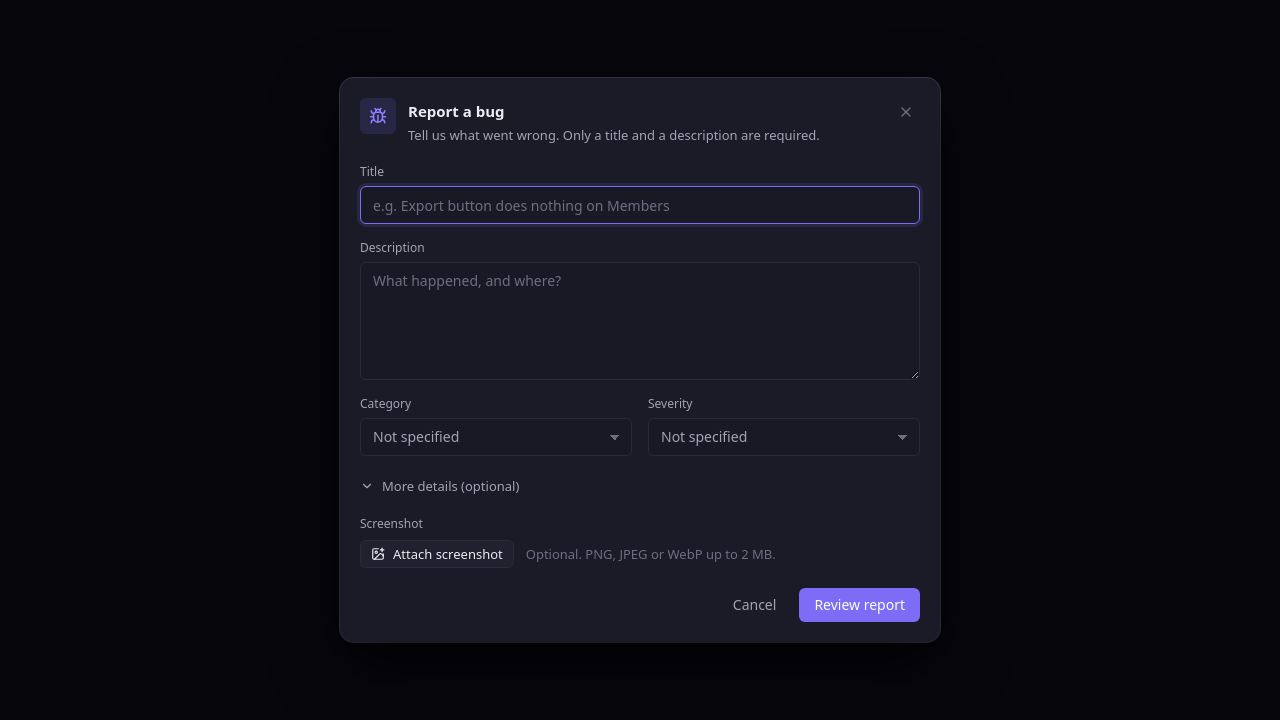
Test: Report a bug › keeps optional details out of the way until asked for
Expected: the field labelled "Steps to reproduce" is not shown
Click the button "More details (optional)": click(440, 486) [360, 472, 519, 500]
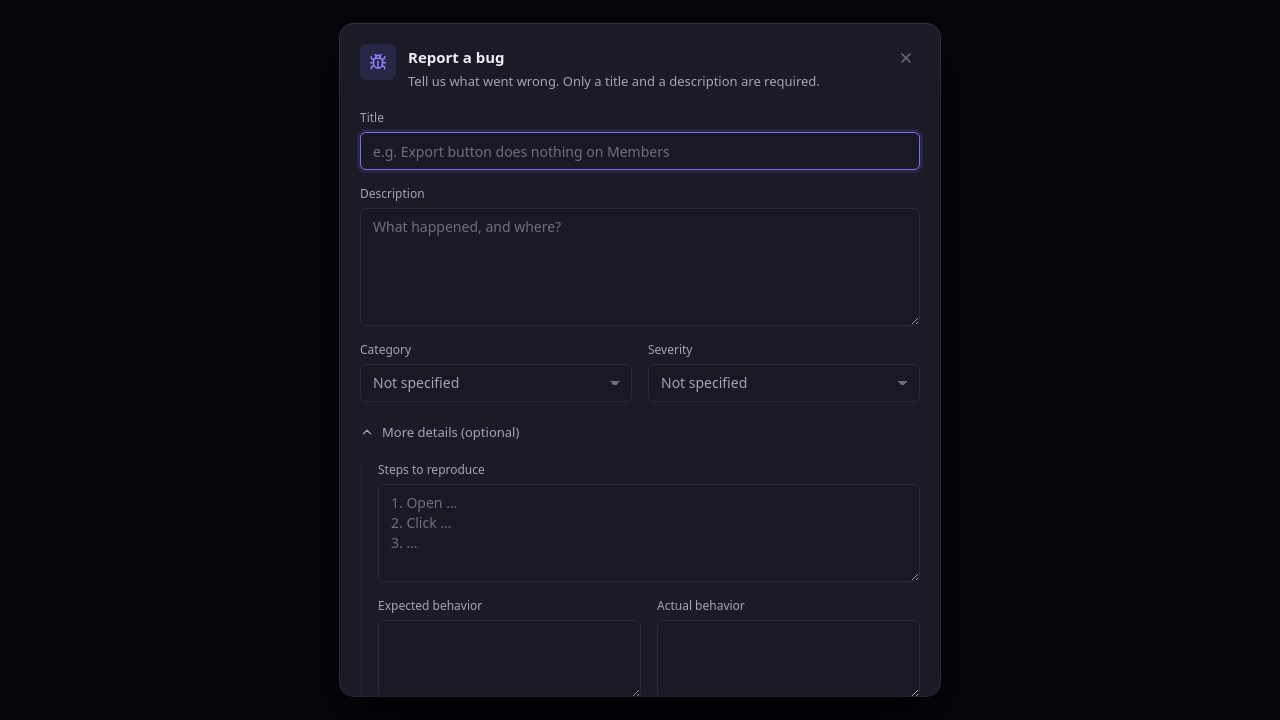
Expected: the text box labelled "Steps to reproduce" is shown, [379, 485, 919, 581]
